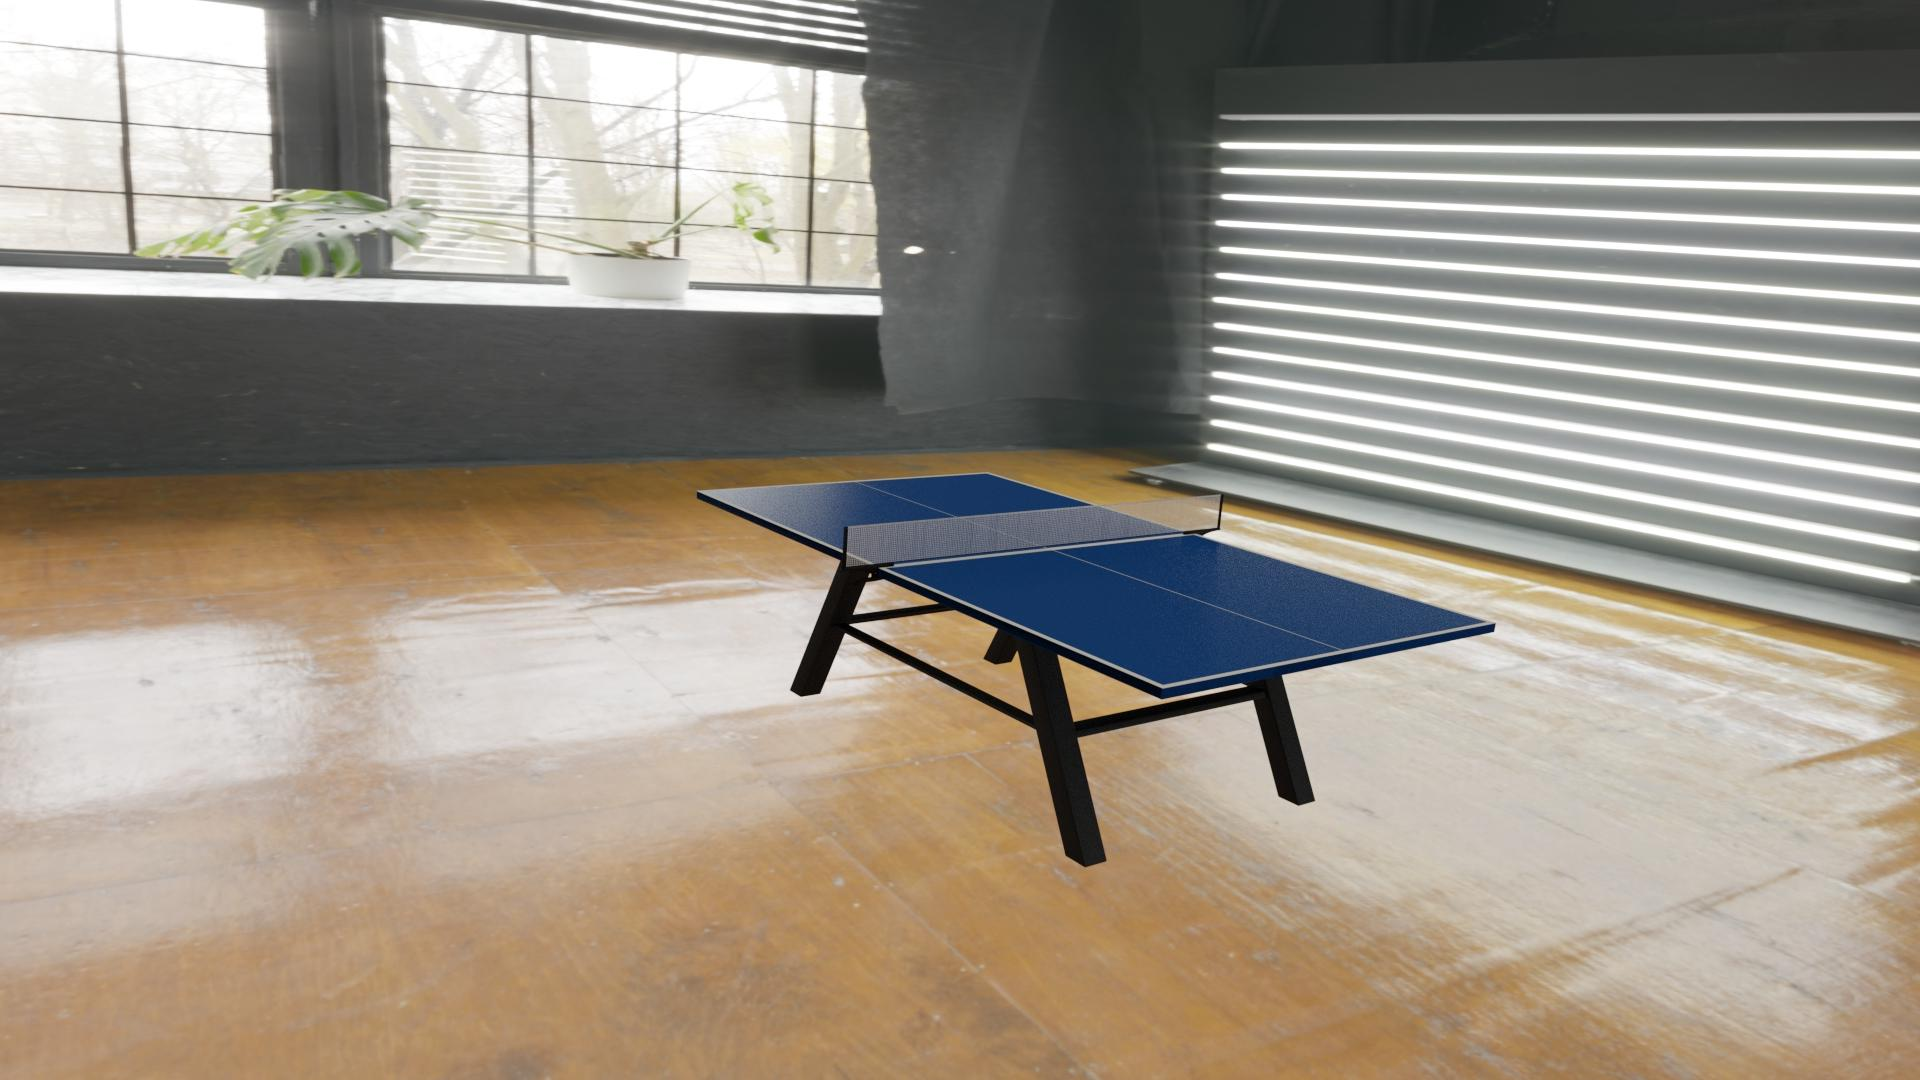table: (703, 473, 1487, 686)
